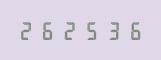five: (81, 20, 101, 40)
six: (38, 20, 58, 40), (123, 20, 143, 40)
three: (102, 20, 122, 40)
two: (17, 20, 37, 40), (60, 20, 80, 40)
